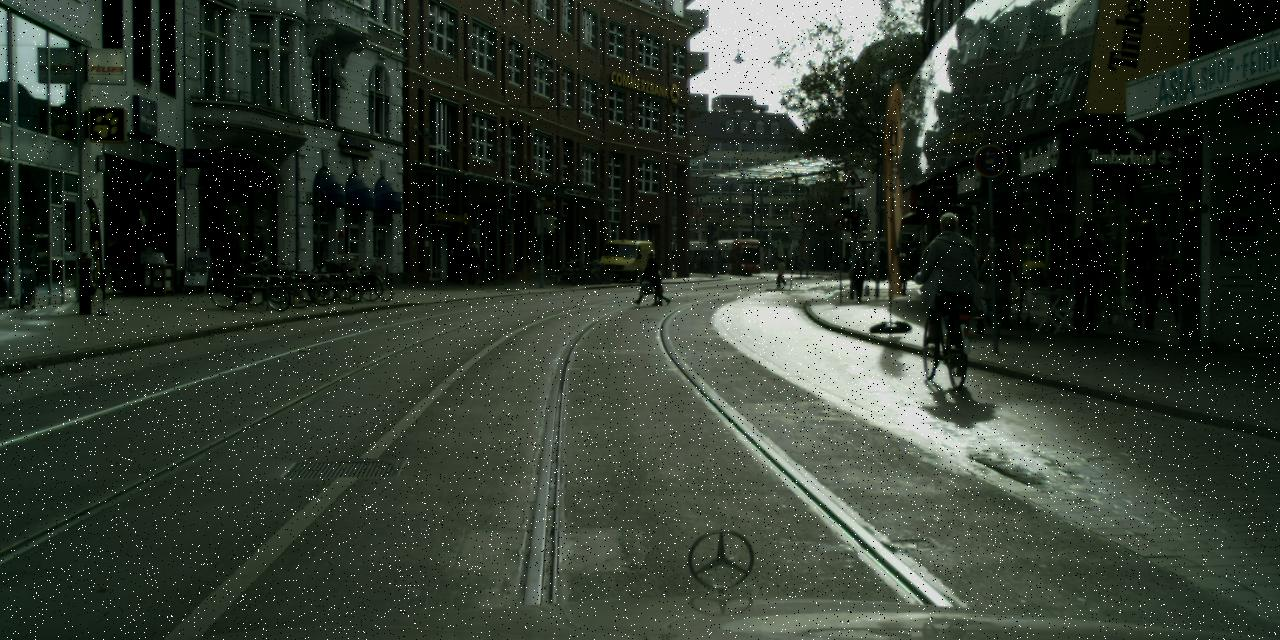ped: (917, 210, 977, 360), (1062, 220, 1109, 336), (941, 236, 980, 331), (982, 242, 1016, 327), (219, 237, 241, 292), (638, 250, 660, 304), (849, 252, 869, 301), (464, 242, 482, 284), (893, 252, 910, 294), (451, 241, 468, 283), (651, 268, 666, 304), (908, 249, 920, 279), (775, 256, 786, 286), (881, 248, 888, 280), (870, 253, 874, 280)
